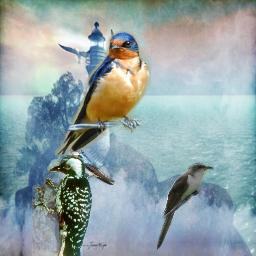Cuckoo: (154, 162, 214, 251)
Swallow: (55, 31, 151, 157), (69, 147, 115, 185)
Woodpecker: (32, 155, 92, 256)
